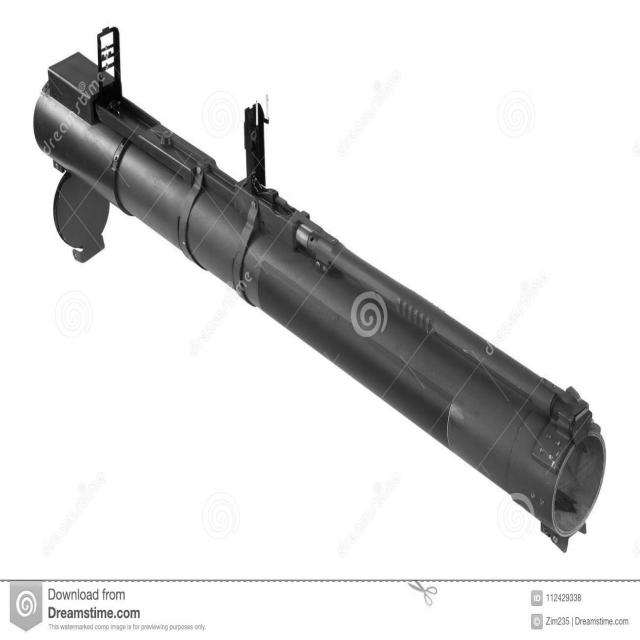Lancher: (37, 10, 628, 566)
